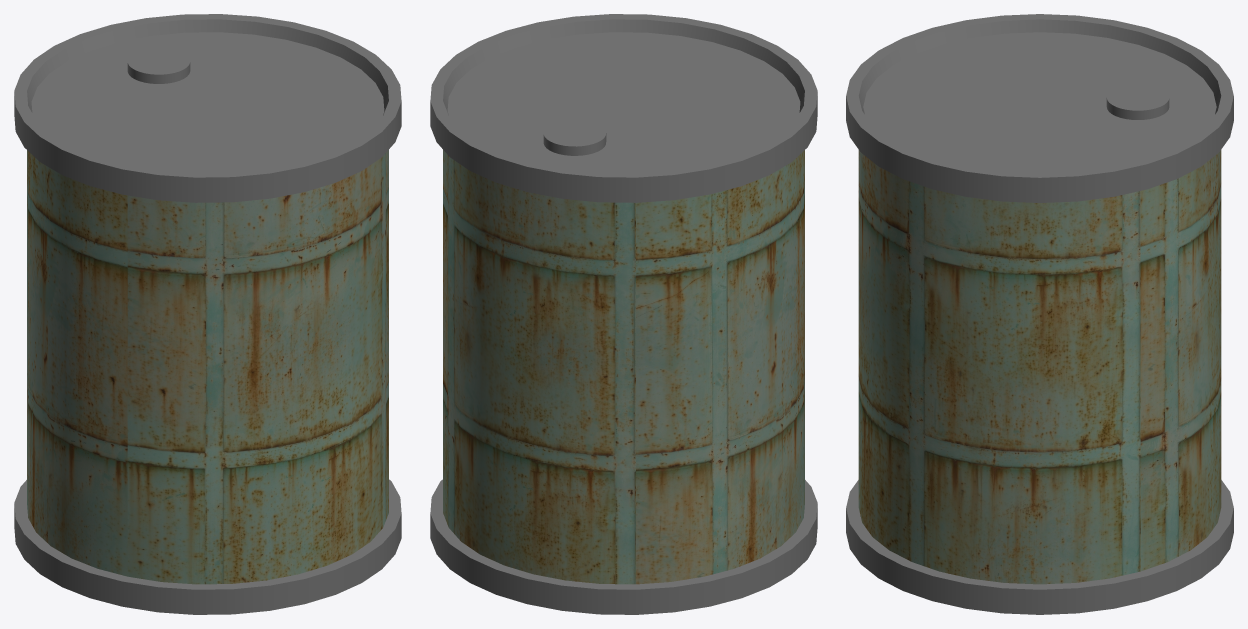
Rendered from Fass.glb.
The picture shows the model from 3 angles, left to right: view 1: azimuth 30°, elevation 25°; view 2: azimuth 150°, elevation 25°; view 3: azimuth 270°, elevation 25°; orthographic projection.
Parts seen in each view (by area): view 1: Cylinder-col; view 2: Cylinder-col; view 3: Cylinder-col.
Part boxes in pixels (x1,y1,x2,y2): Cylinder-col: [14, 14, 401, 614]; Cylinder-col: [430, 14, 817, 614]; Cylinder-col: [846, 14, 1233, 614].
Size of the model in its own units: 1.06 by 1.32 by 1.06.
Materials: 2 (1 with a texture image).
